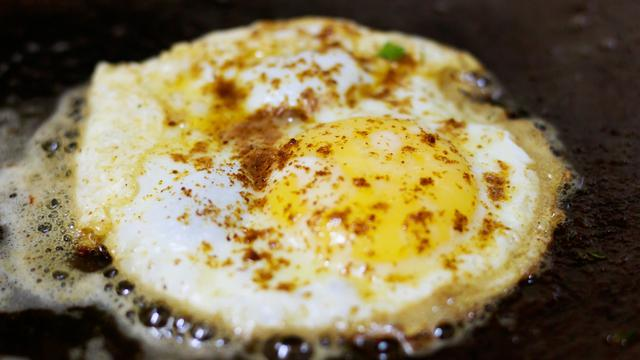Telur: (54, 16, 581, 347)
